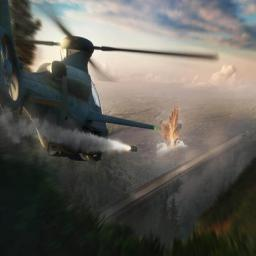helicopter: (7, 6, 142, 174)
